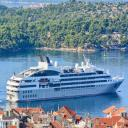cruises: (6, 55, 126, 104)
